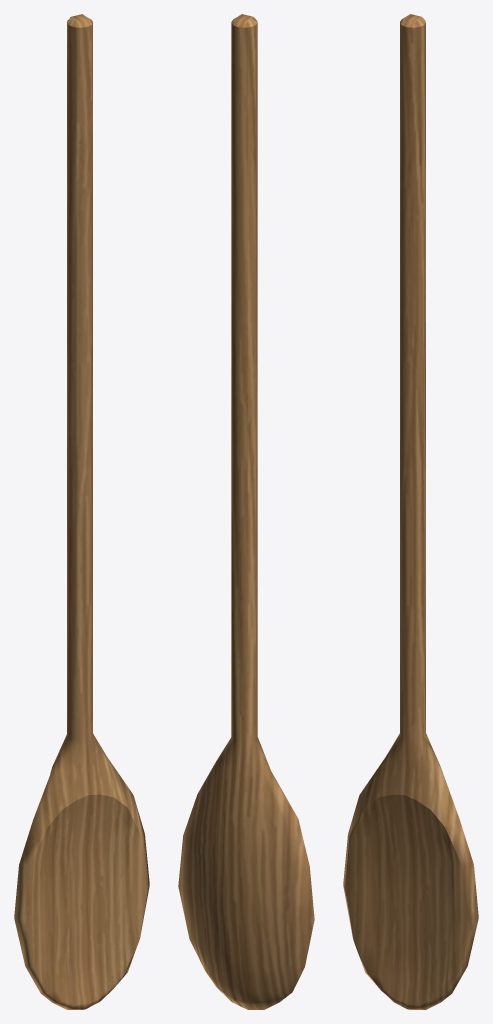
File: pollepel.fbx
3 renders of one model, left to right at view 1: azimuth 30°, elevation 25°; view 2: azimuth 150°, elevation 25°; view 3: azimuth 330°, elevation 25°, orthographic.
Visible parts, largest first — view 1: pollepel1; view 2: pollepel1; view 3: pollepel1.
Boxes of the visible parts, left/top/right/bottom form: pollepel1: left=14, top=14, right=149, bottom=1009; pollepel1: left=178, top=14, right=314, bottom=1009; pollepel1: left=343, top=14, right=478, bottom=1009.
Bounding box in the file's own units: 4.32 × 30.12 × 1.15.
Materials: 1 (1 with a texture image).
